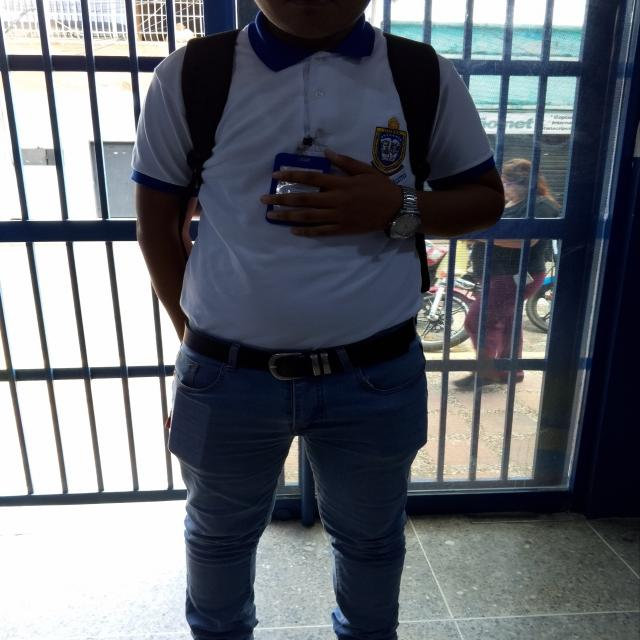carnet: (273, 165, 323, 219)
uniforme_superior: (130, 12, 498, 350)
